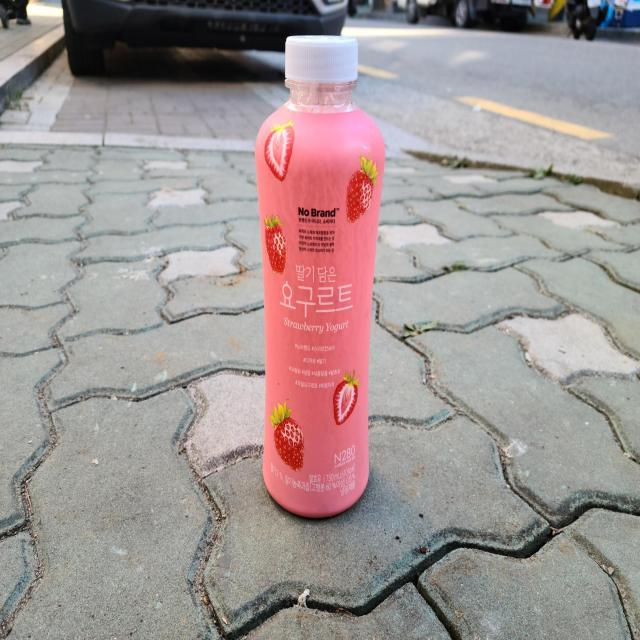plastic_bottle: (254, 34, 386, 520)
